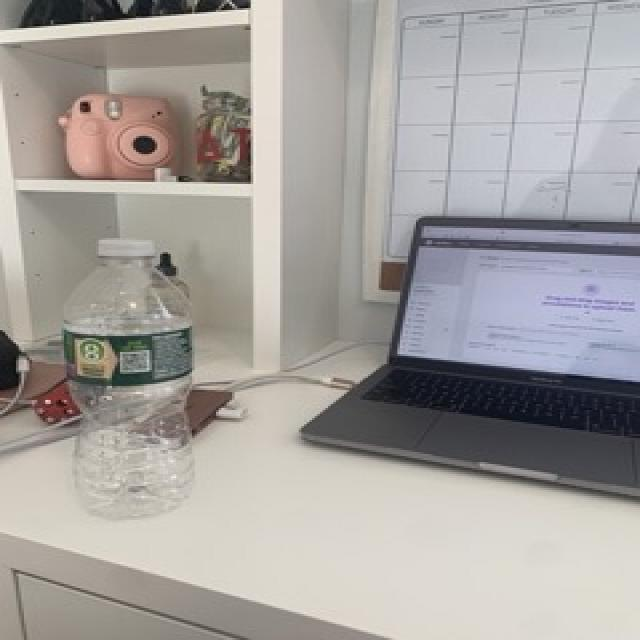water_bottle: (56, 230, 208, 523)
